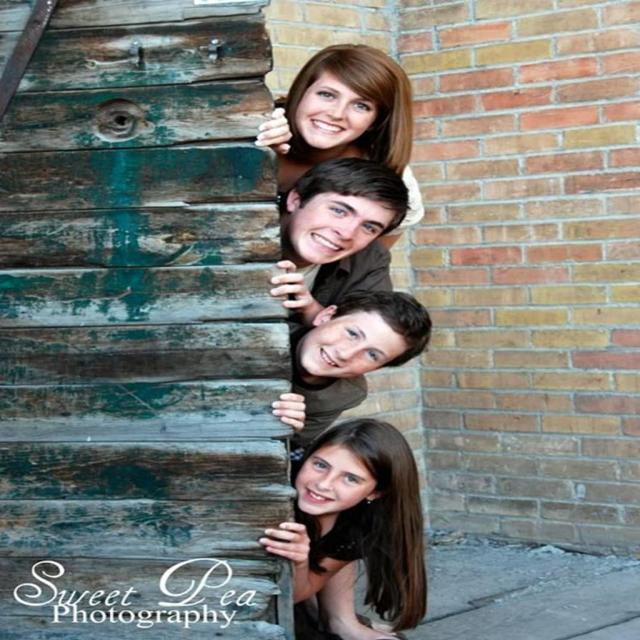Face: (272, 287, 447, 396), (274, 169, 427, 279), (260, 49, 405, 158), (281, 417, 411, 530)
